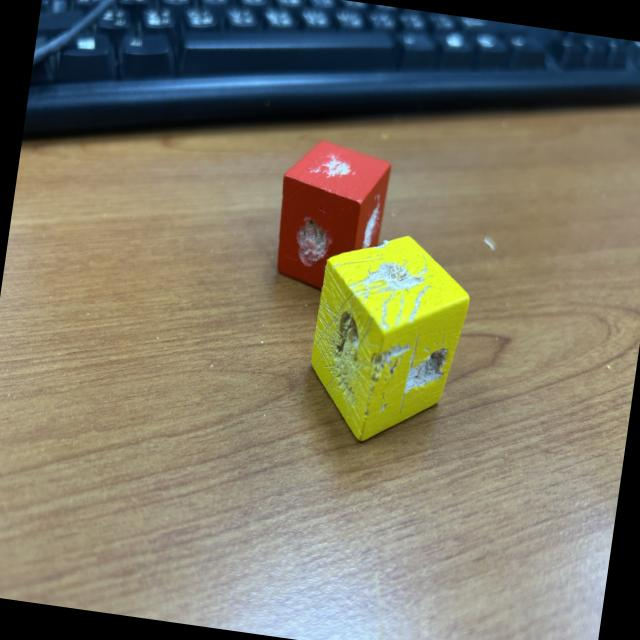broken: (300, 223, 478, 453), (269, 136, 393, 298)
